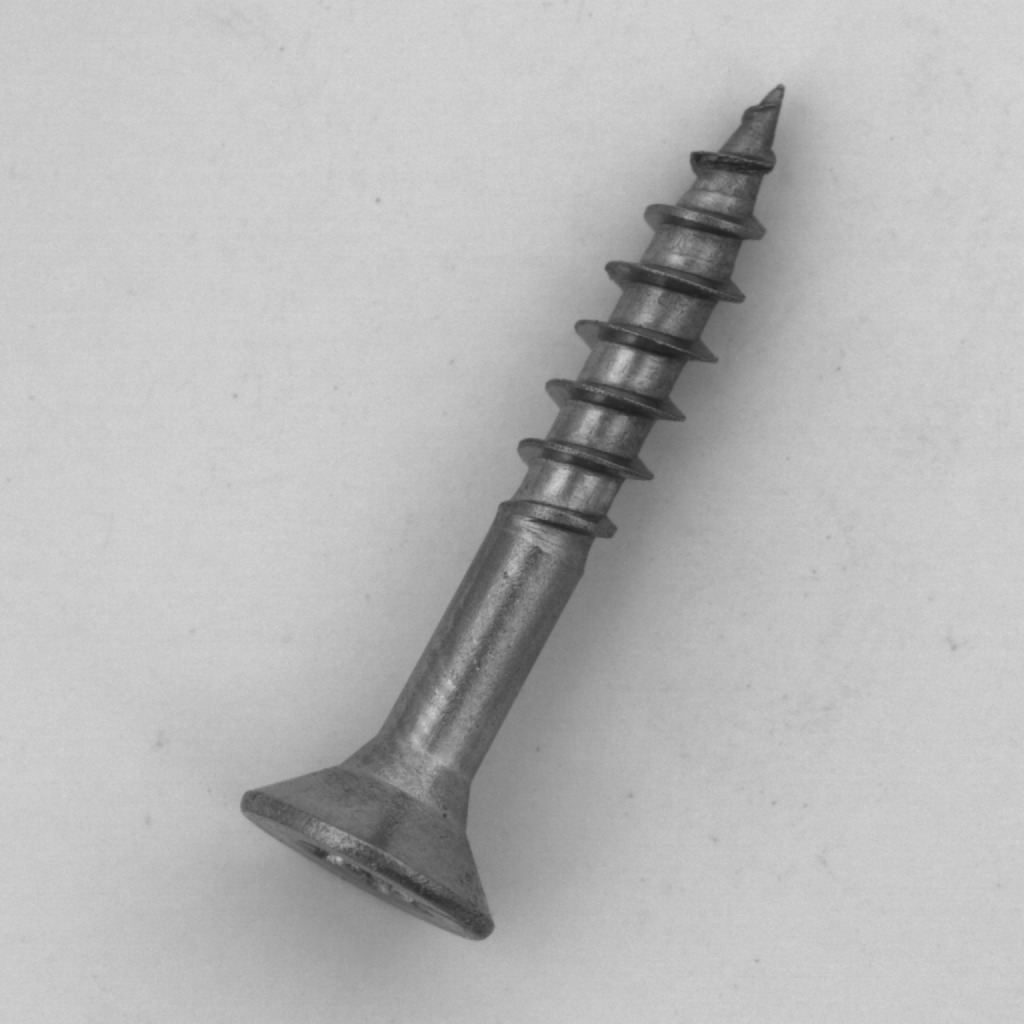good: (232, 73, 824, 954)
